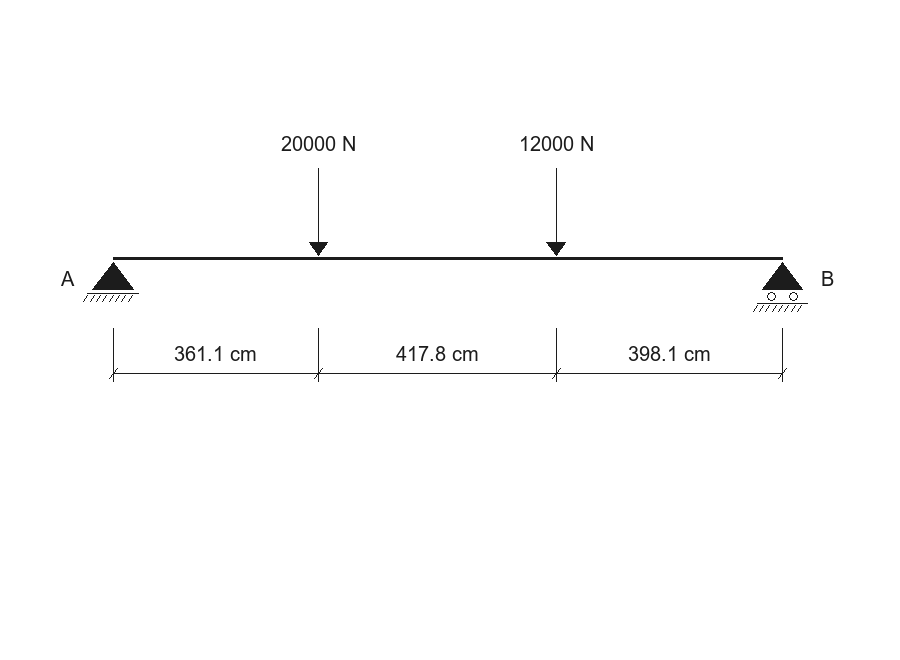pin_support: (83, 262, 139, 302)
point_load: (546, 168, 566, 256), (309, 168, 328, 256)
roller_support: (753, 262, 808, 312)
